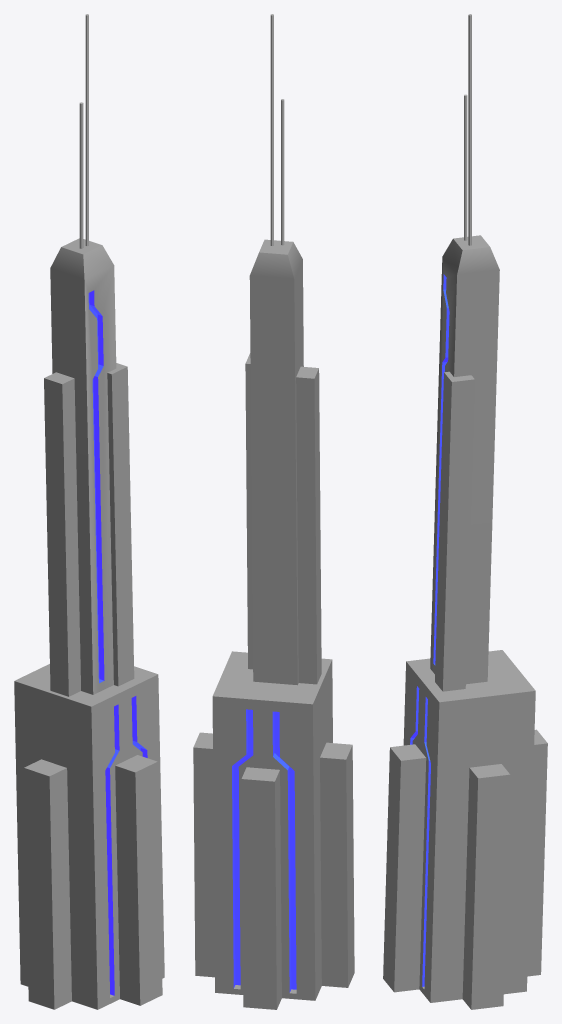
Rendered from mbill2.fbx.
3 renders of one model, left to right at view 1: azimuth 30°, elevation 25°; view 2: azimuth 150°, elevation 25°; view 3: azimuth 270°, elevation 25°, orthographic.
Visible parts, largest first — view 1: polySurface110; view 2: polySurface110; view 3: polySurface110.
Boxes of the visible parts, left/top/right/bottom form: polySurface110: left=14, top=14, right=164, bottom=1009; polySurface110: left=193, top=14, right=354, bottom=1009; polySurface110: left=383, top=14, right=547, bottom=1009.
Size of the model in its own units: 378 by 2517 by 390.
